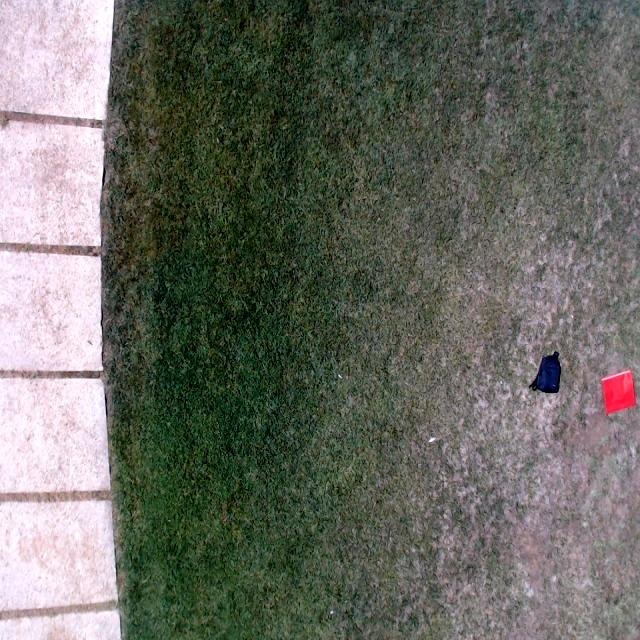red_square: (601, 372, 637, 415)
